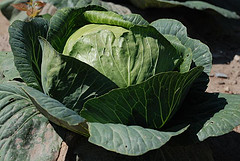cabbage: (57, 16, 148, 84)
